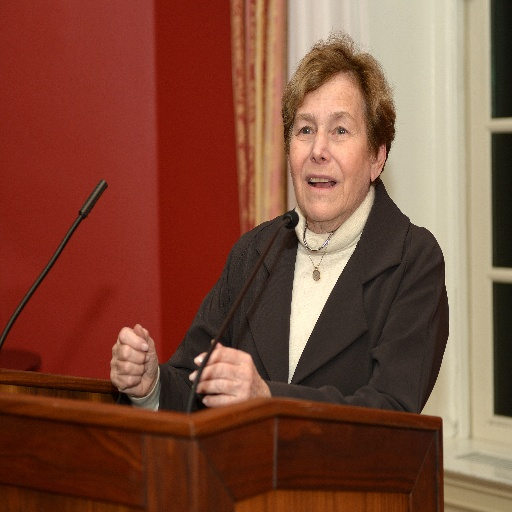hand: (188, 336, 269, 407), (101, 330, 154, 391)
